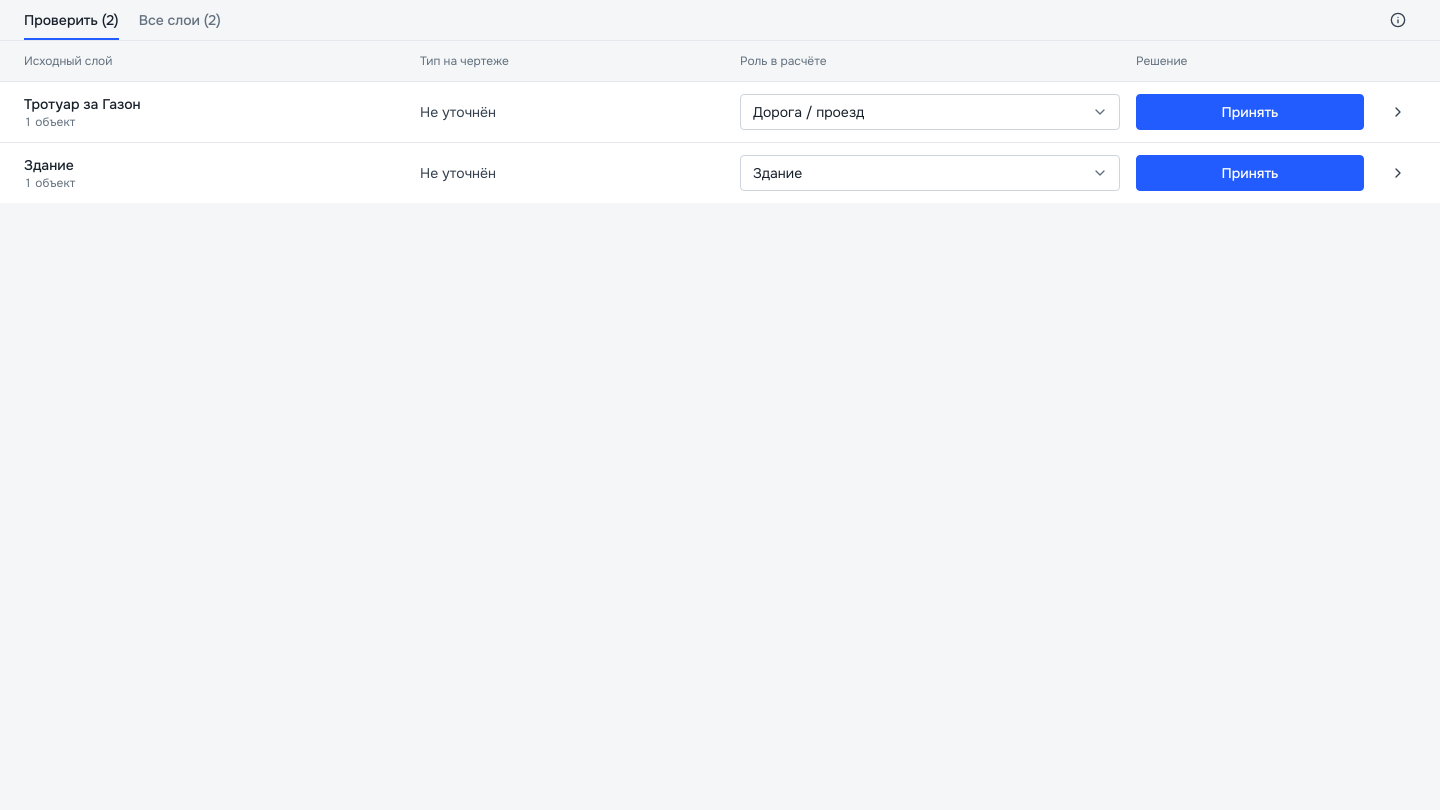
it: keeps secondary counters in the information popover
The image size is (1440, 810).
Expected: the text "Принято" is not shown
Click the button named "О распознавании слоёв". click: (1398, 20)
box: [1380,2,1416,38]
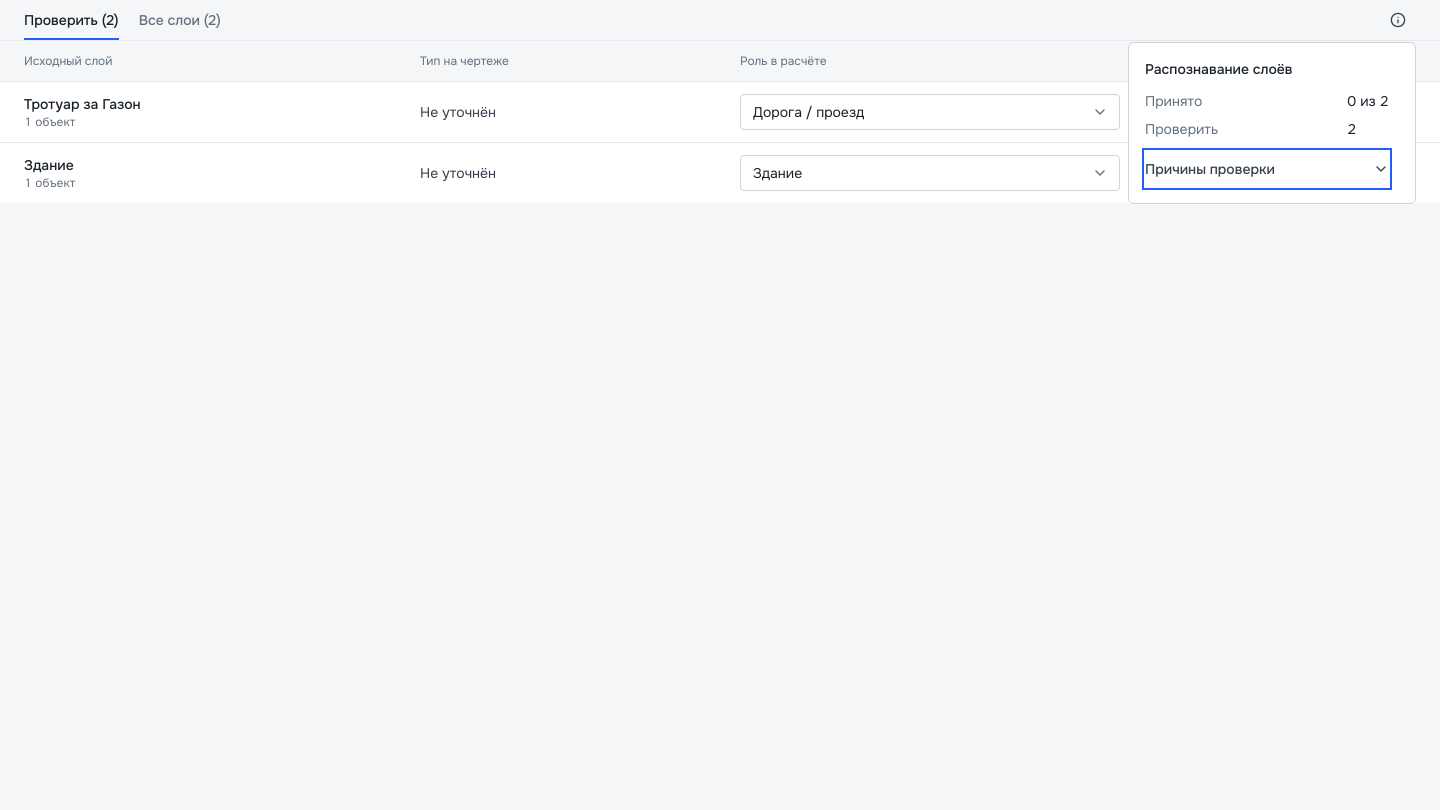
Now the text "Принято" is shown, box [1145,92,1202,110]
Now the dialog "Распознавание слоёв" shows "0 из 2", box [1128,42,1416,204]
